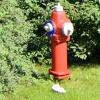a fire hydrant: (44, 2, 73, 79)
